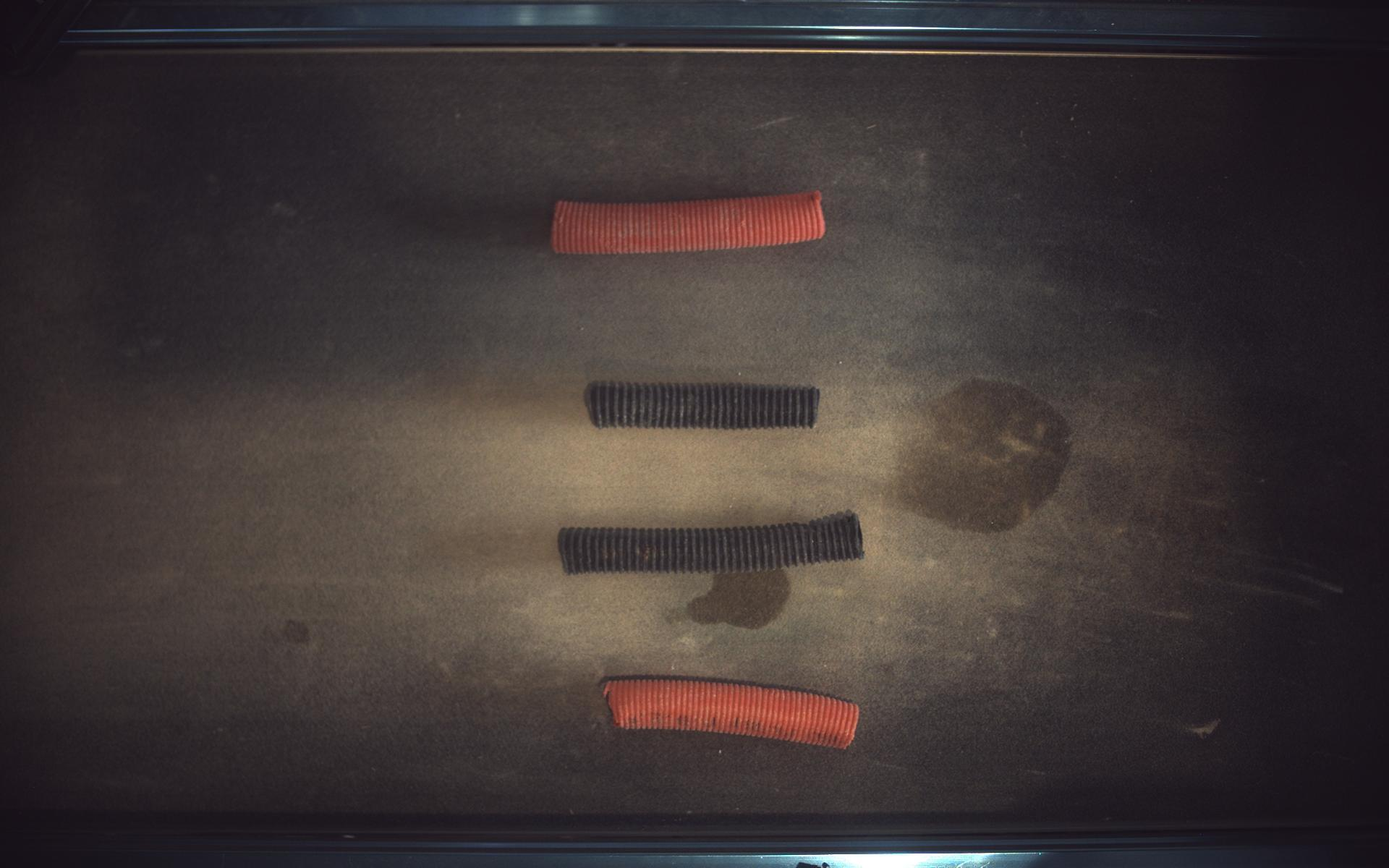pipes: (558, 511, 866, 575), (604, 678, 861, 750), (552, 190, 827, 254), (587, 381, 820, 429)
